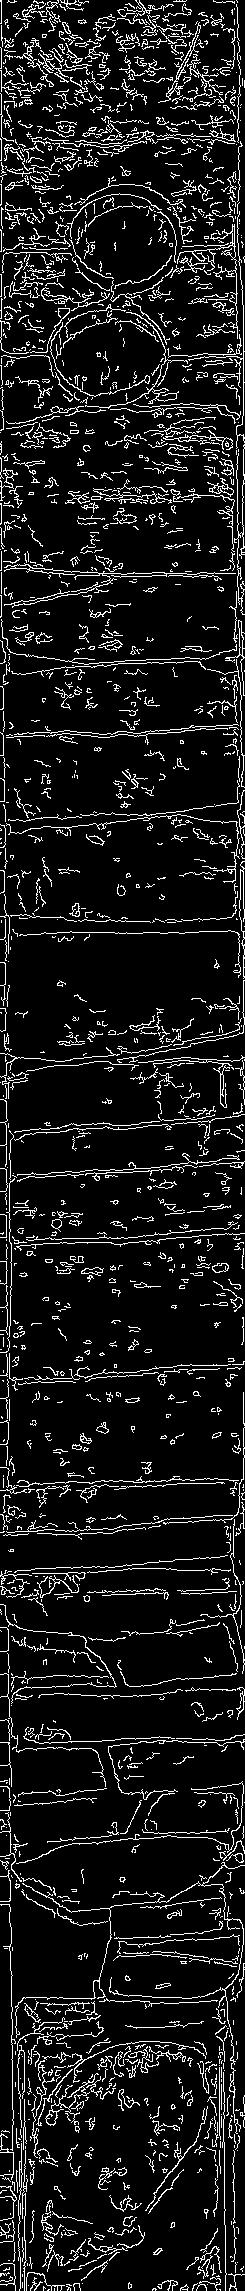scal: (61, 180, 185, 301), (44, 302, 163, 408)
